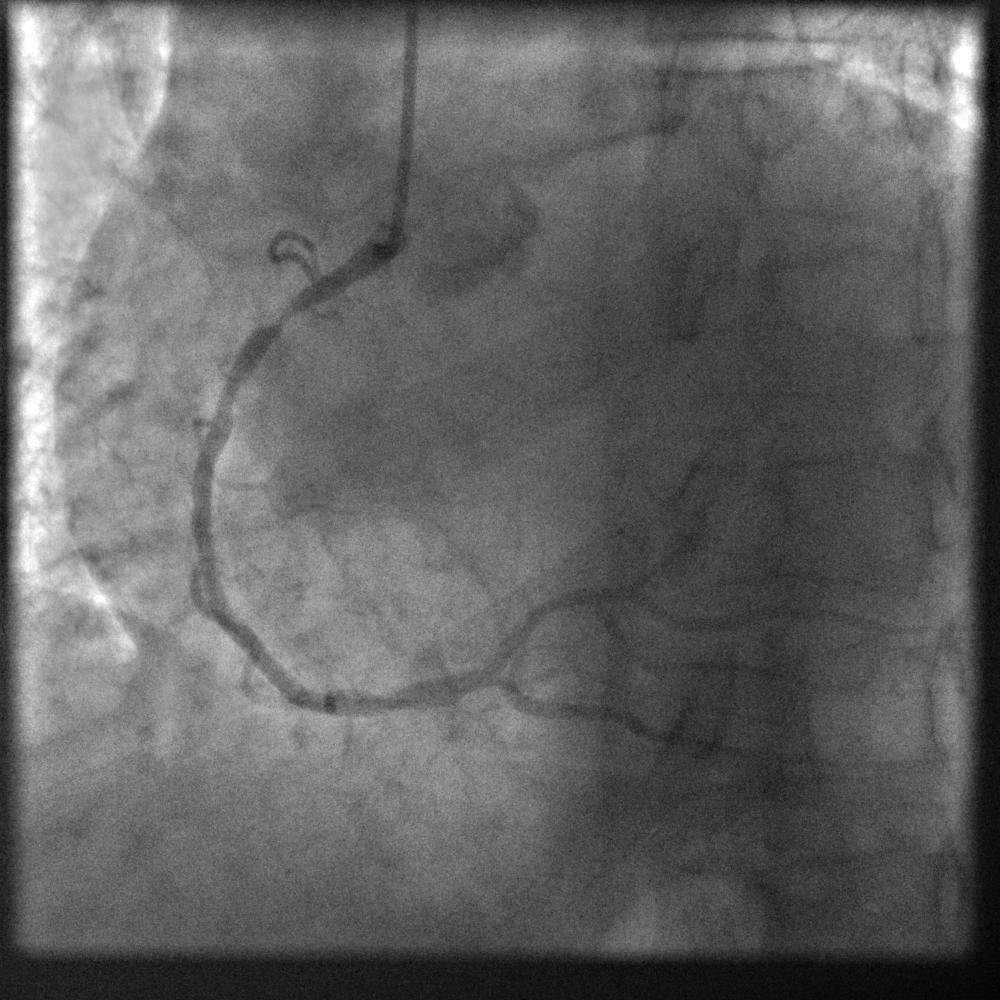Stenosis: (246, 308, 304, 339)
